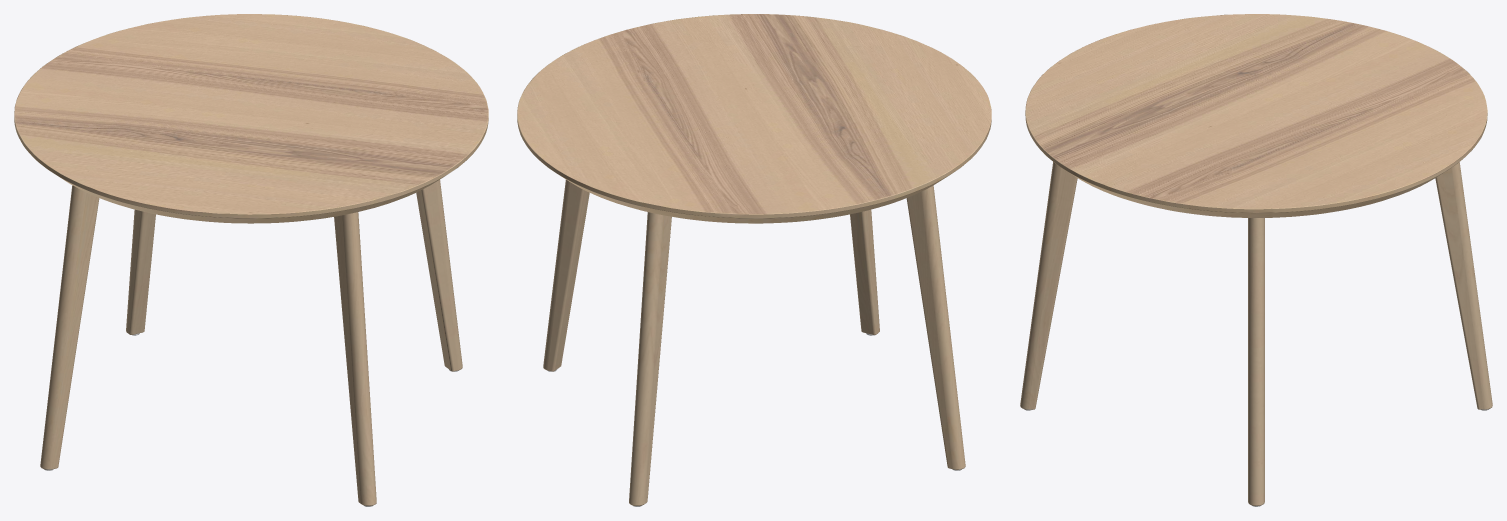
The model's file is LISABO_40416498.glb.
3 renders of one model, left to right at view 1: azimuth 30°, elevation 25°; view 2: azimuth 150°, elevation 25°; view 3: azimuth 270°, elevation 25°, orthographic. The views are drawn at different scales.
Parts seen in each view (by area): view 1: model; view 2: model; view 3: model.
Boxes of the visible parts, bbox=[...] form: model: bbox=[14, 14, 488, 506]; model: bbox=[517, 14, 991, 506]; model: bbox=[1020, 14, 1492, 506].
Bounding box in the file's own units: 1.07 × 0.7451 × 1.07.
Materials: 1 (1 with a texture image).
